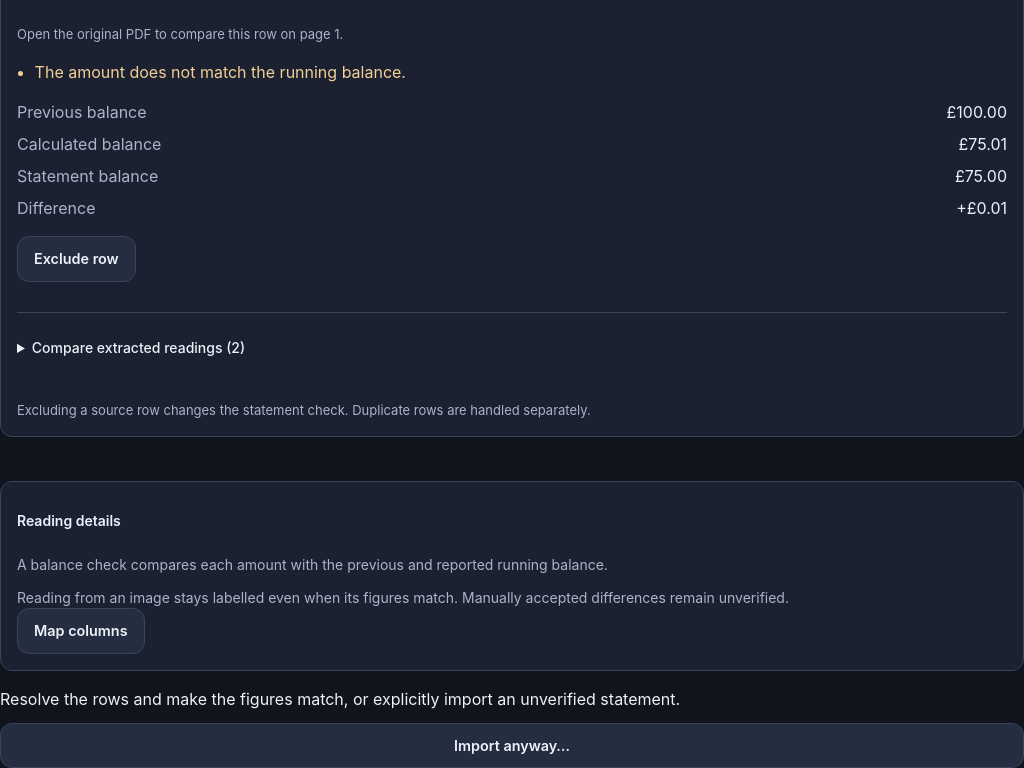
Test case: generic PDF evidence review › shows a one-penny difference and requires explicit confirmation before import anyway
(page scrolled)
Click the button "Import anyway…": (512, 746) [0,723,1023,767]
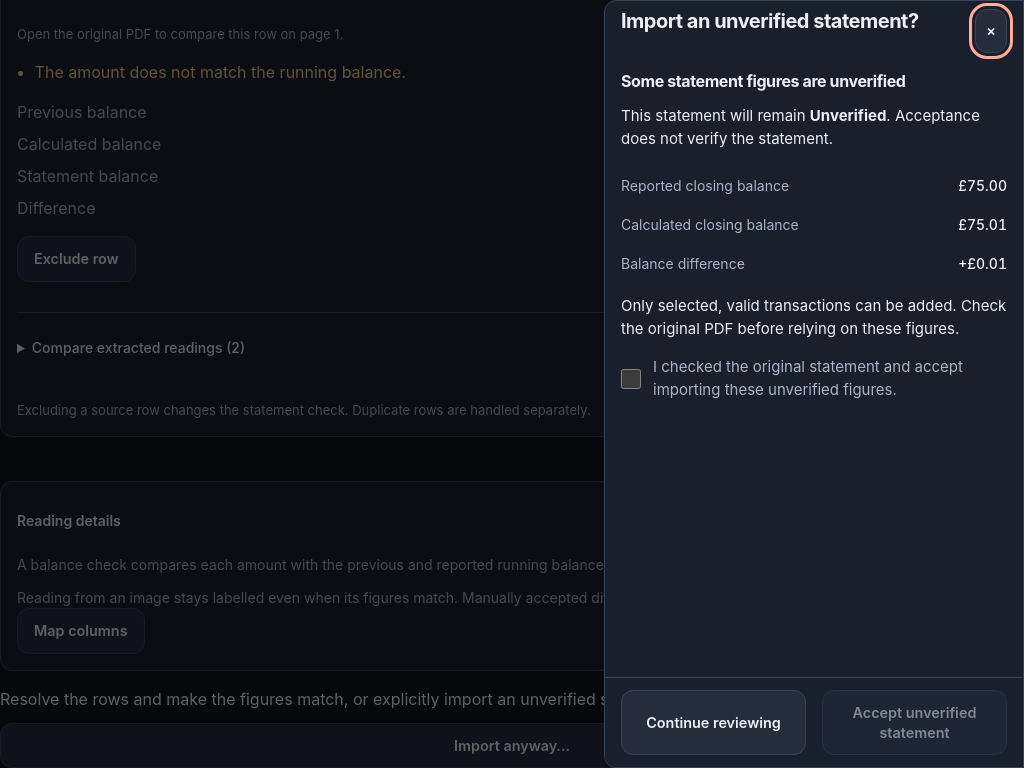
Expected: the button "Accept unverified statement" is disabled, [822,690,1007,755]
Click the checkbox: (631, 378) [621,356,641,400]
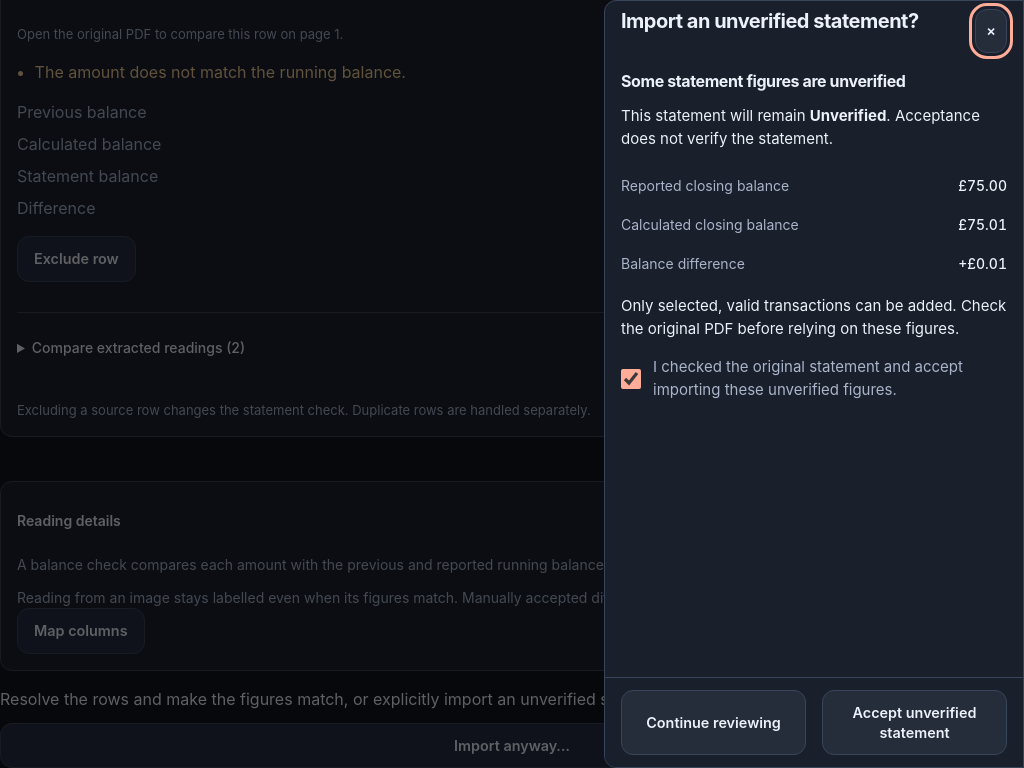
Click the button "Accept unverified statement": (914, 723) [822,690,1007,755]
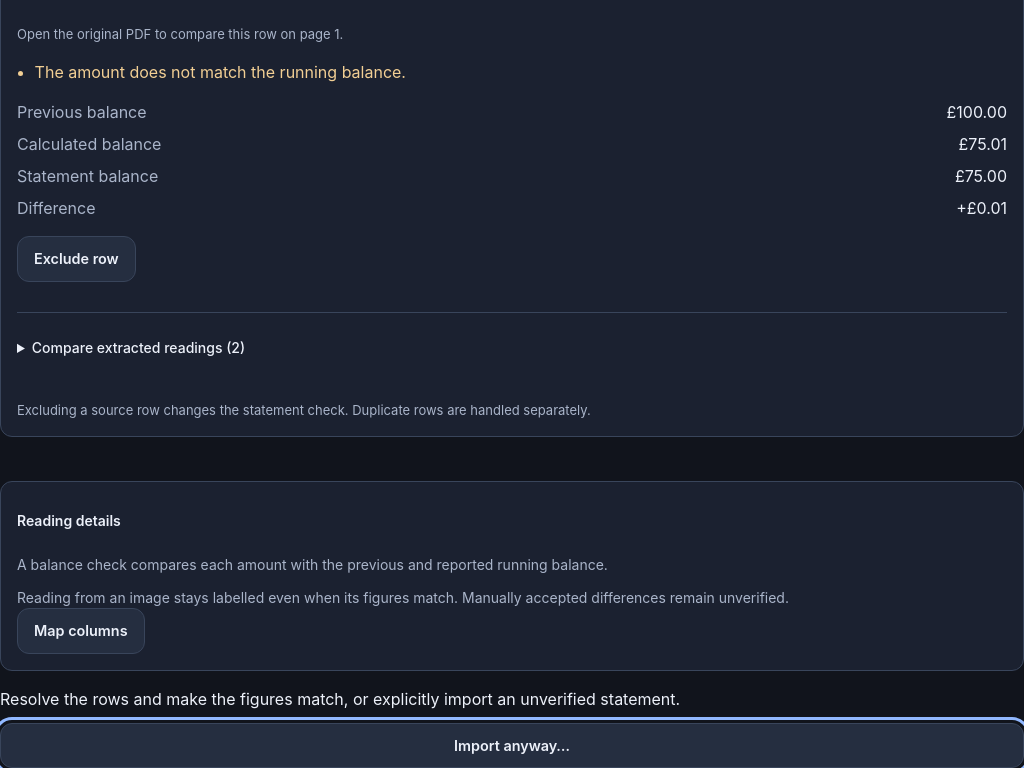
Expected: the dialog is gone
